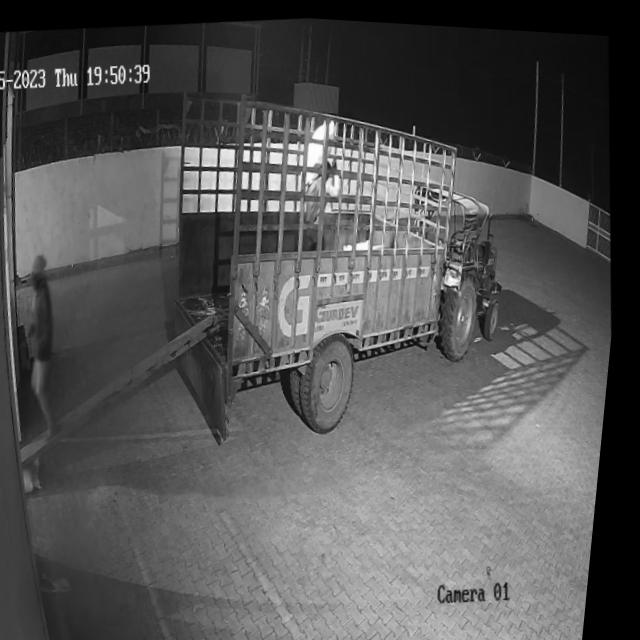sack: (301, 113, 344, 183)
